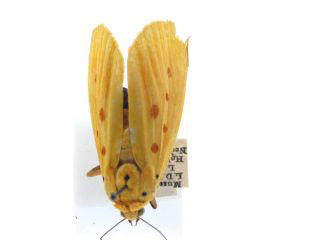Agape chloropyga: (85, 17, 192, 239)
moth: (85, 17, 192, 239)
